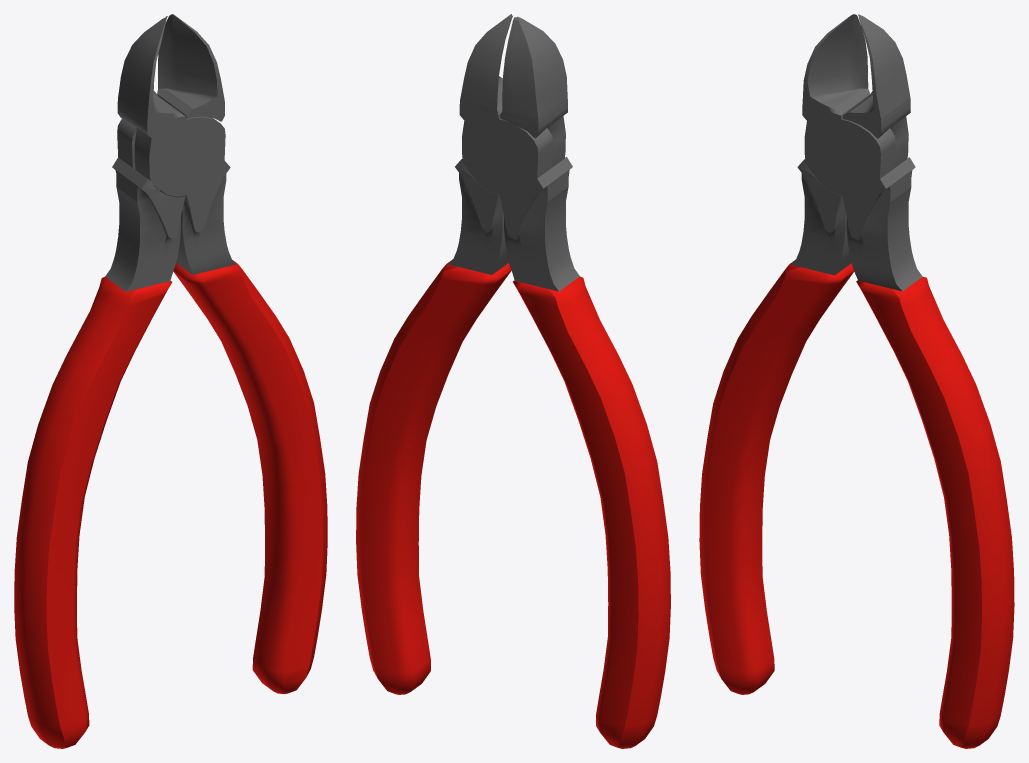
File: wireCutter.fbx
3 renders of one model, left to right at view 1: azimuth 30°, elevation 25°; view 2: azimuth 150°, elevation 25°; view 3: azimuth 330°, elevation 25°, orthographic.
Visible parts, largest first — view 1: polySurface18, group15_pasted__group13_pasted__pasted__pCube2_pasted___b715; view 2: polySurface18, group15_pasted__group13_pasted__pasted__pCube2_pasted___b715; view 3: group15_pasted__group13_pasted__pasted__pCube2_pasted___b715, polySurface18.
Boxes of the visible parts, x1=… form: polySurface18: x1=14, y1=14, x2=224, y2=748; group15_pasted__group13_pasted__pasted__pCube2_pasted___b715: x1=117, y1=16, x2=327, y2=693; polySurface18: x1=459, y1=14, x2=670, y2=748; group15_pasted__group13_pasted__pasted__pCube2_pasted___b715: x1=356, y1=16, x2=567, y2=694; group15_pasted__group13_pasted__pasted__pCube2_pasted___b715: x1=802, y1=14, x2=1014, y2=748; polySurface18: x1=699, y1=14, x2=910, y2=694.
Size of the model in its own units: 5.5 by 12.22 by 0.9631.
